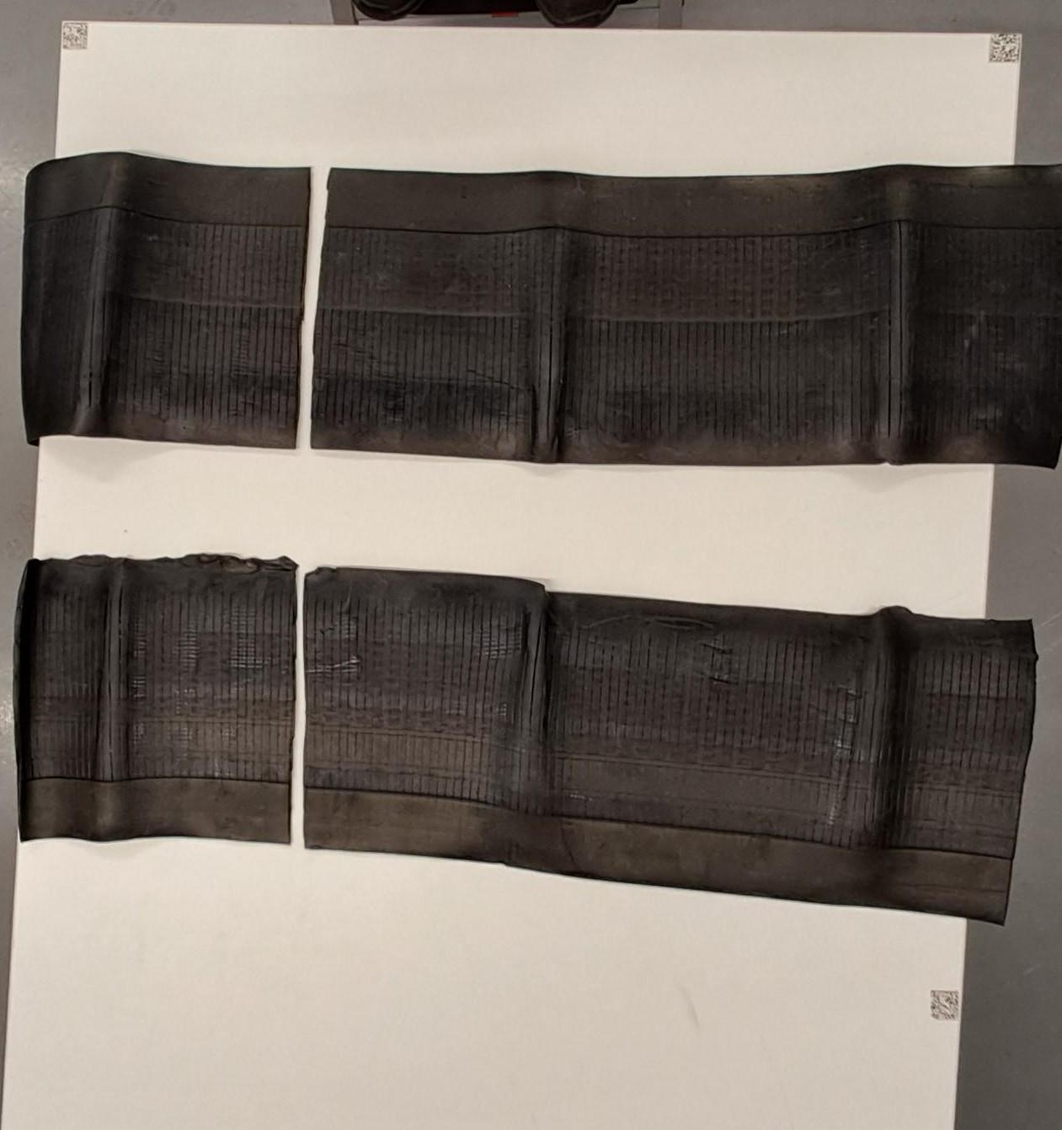cut_edge: (295, 168, 330, 448), (290, 565, 306, 847)
qr_code: (989, 34, 1020, 62), (931, 991, 958, 1020), (62, 22, 87, 49)
